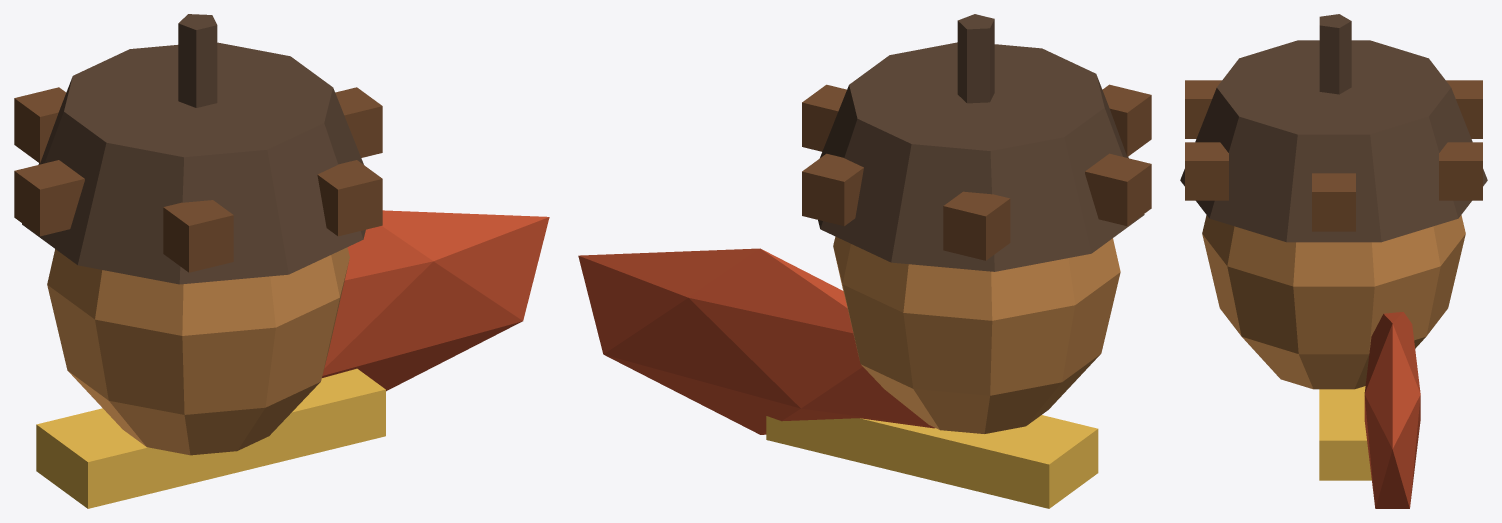
The model's file is CatCafe_Accessory_AcornHairClip.glb.
3 views of the same model, side by side, from view 1: azimuth 30°, elevation 25°; view 2: azimuth 150°, elevation 25°; view 3: azimuth 270°, elevation 25° (orthographic). The views are drawn at different scales.
Parts seen in each view (by area): view 1: CatCafe_Accessory_AcornHairClip; view 2: CatCafe_Accessory_AcornHairClip; view 3: CatCafe_Accessory_AcornHairClip.
Boxes of the visible parts, <box> form: CatCafe_Accessory_AcornHairClip: <box>14,14,549,508</box>; CatCafe_Accessory_AcornHairClip: <box>578,14,1151,508</box>; CatCafe_Accessory_AcornHairClip: <box>1180,14,1487,508</box>.
Size of the model in its own units: 0.3738 by 0.293 by 0.21.
1 material, 1 textured.
